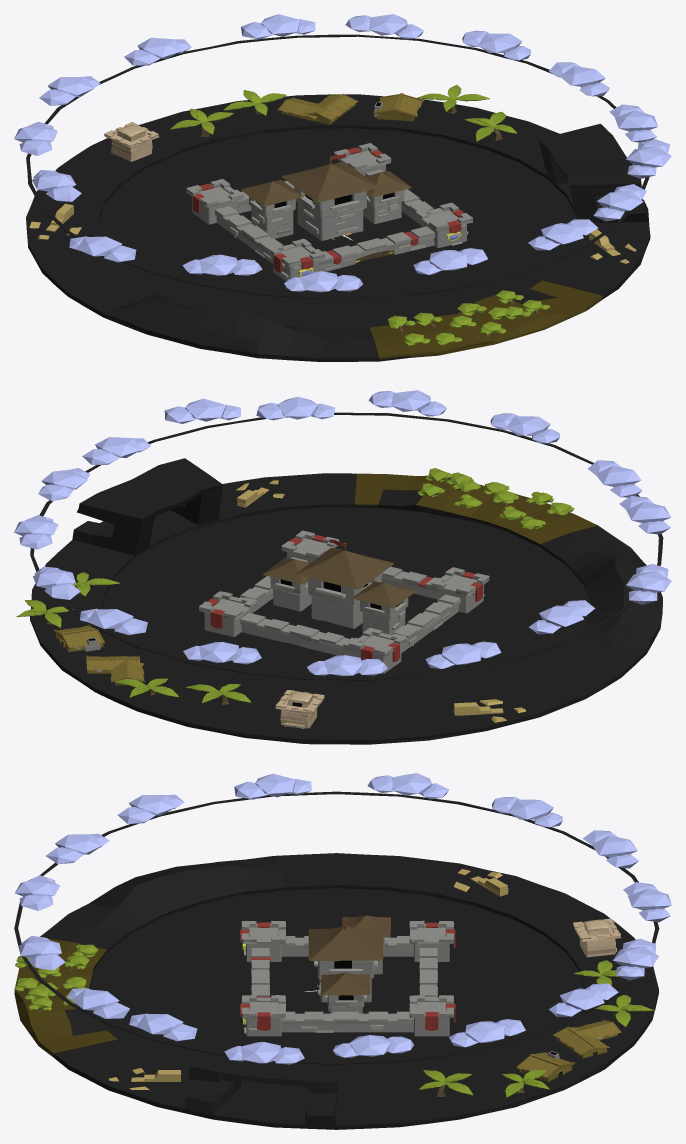
File: TESTE cenario_2.fbx
3 renders of one model, top to bottom at view 1: azimuth 30°, elevation 25°; view 2: azimuth 150°, elevation 25°; view 3: azimuth 270°, elevation 25°, orthographic. The views are drawn at different scales.
Visible parts, largest first — view 1: Cylinder; view 2: Cylinder; view 3: Cylinder.
Boxes of the visible parts, left/top/right/bottom form: Cylinder: left=14, top=14, right=671, bottom=361; Cylinder: left=14, top=390, right=671, bottom=744; Cylinder: left=14, top=773, right=671, bottom=1129.
Bounding box in the file's own units: 42220 × 7062 × 40945.
